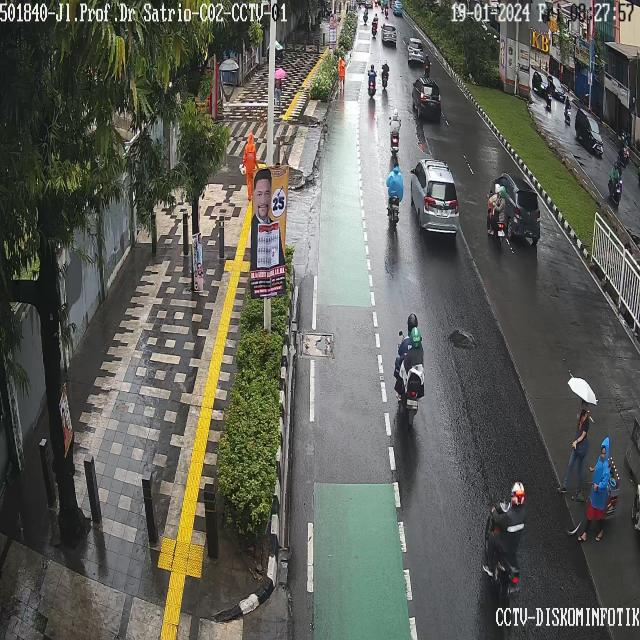Payung: (567, 370, 601, 408)
